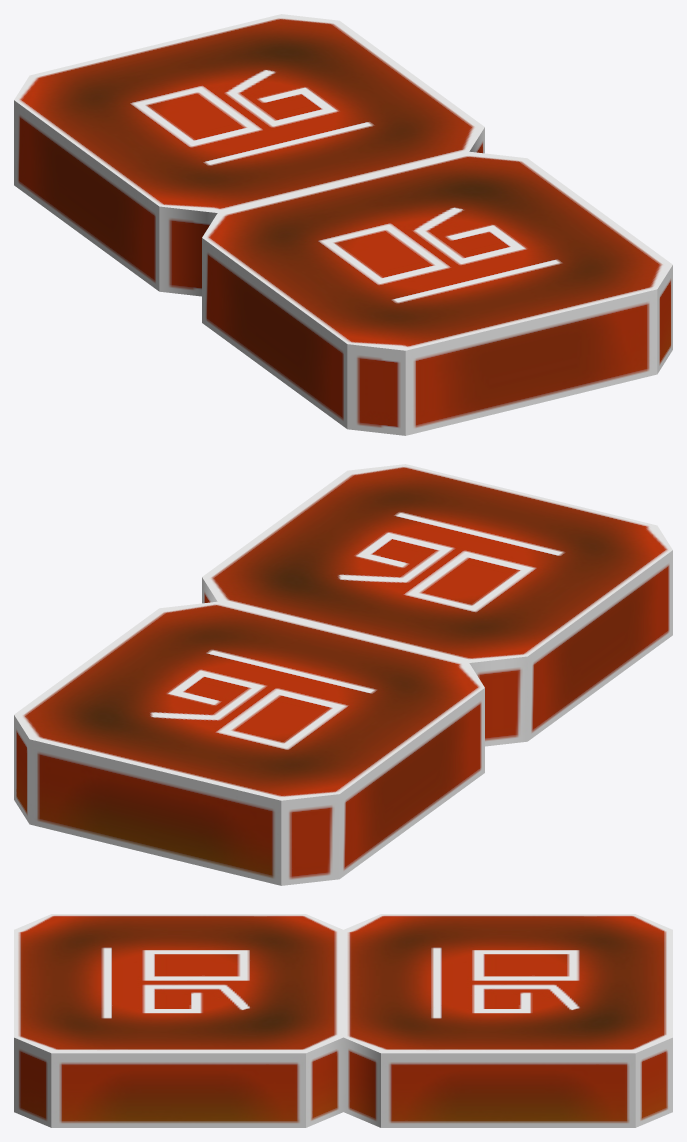
The model's file is MG-ChJ-CS-06PingTaiKuai-2A.FBX.
3 renders of one model, top to bottom at view 1: azimuth 30°, elevation 25°; view 2: azimuth 150°, elevation 25°; view 3: azimuth 270°, elevation 25°, orthographic. The views are drawn at different scales.
Parts seen in each view (by area): view 1: MG-ChJ-CS-06PingTai-2A; view 2: MG-ChJ-CS-06PingTai-2A; view 3: MG-ChJ-CS-06PingTai-2A.
Boxes of the visible parts, left/top/right/bottom form: MG-ChJ-CS-06PingTai-2A: left=14, top=14, right=672, bottom=435; MG-ChJ-CS-06PingTai-2A: left=14, top=464, right=672, bottom=885; MG-ChJ-CS-06PingTai-2A: left=14, top=914, right=672, bottom=1127.
Size of the model in its own units: 39.37 by 9.84 by 78.74.
